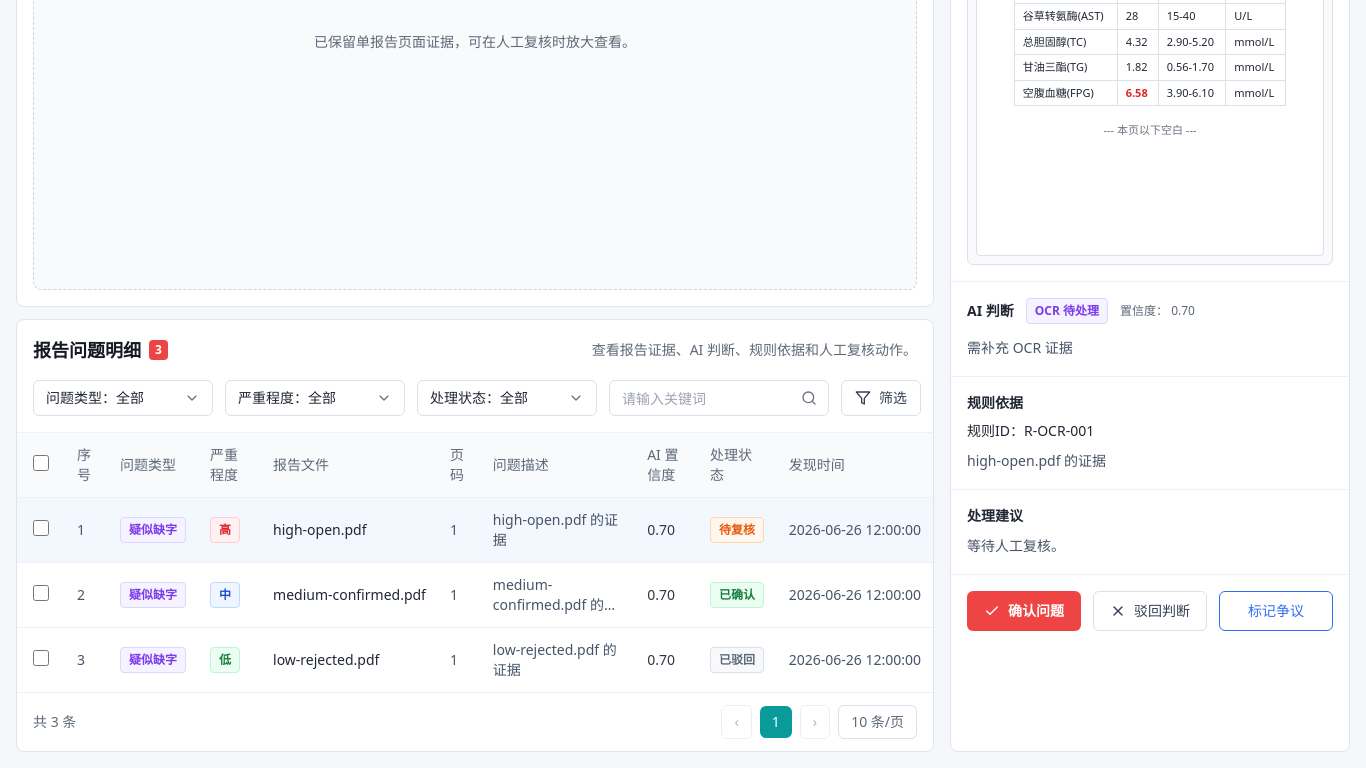
Test: quality workspace interactions › shows visible evidence-panel feedback and updates issue status after a review decision
This screenshot has width=1366, height=768.
(page scrolled)
Click the button "确认问题": (1024, 611) [967,591,1081,631]
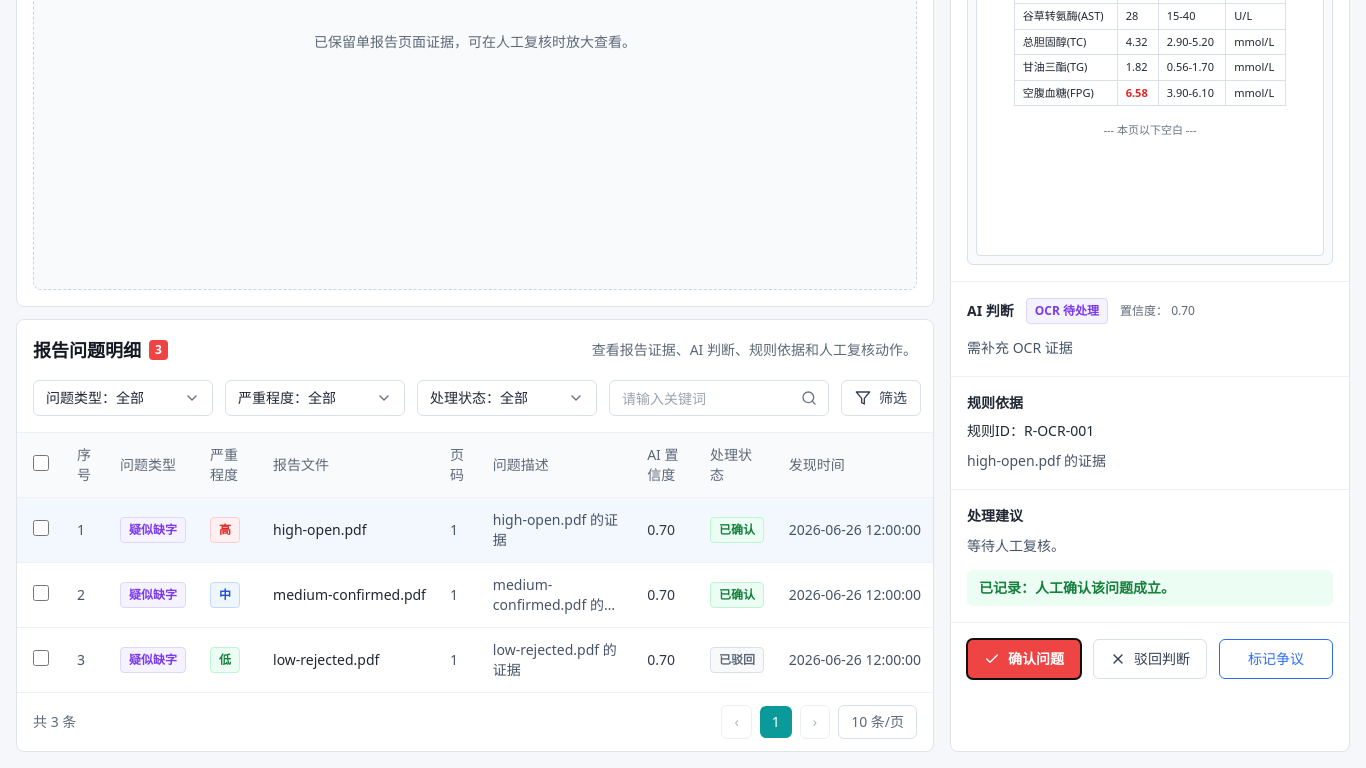
Now the 7th row is shown, box [17,498,933,563]
